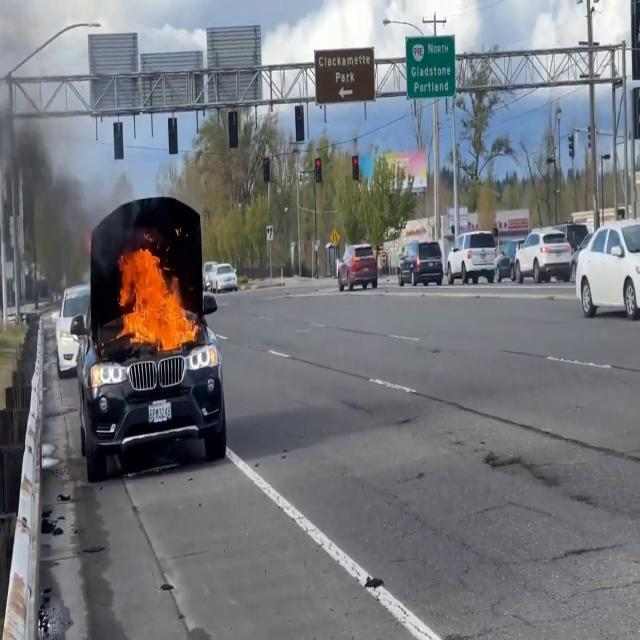Fire: (114, 242, 198, 356)
Smoke: (0, 0, 152, 222)
